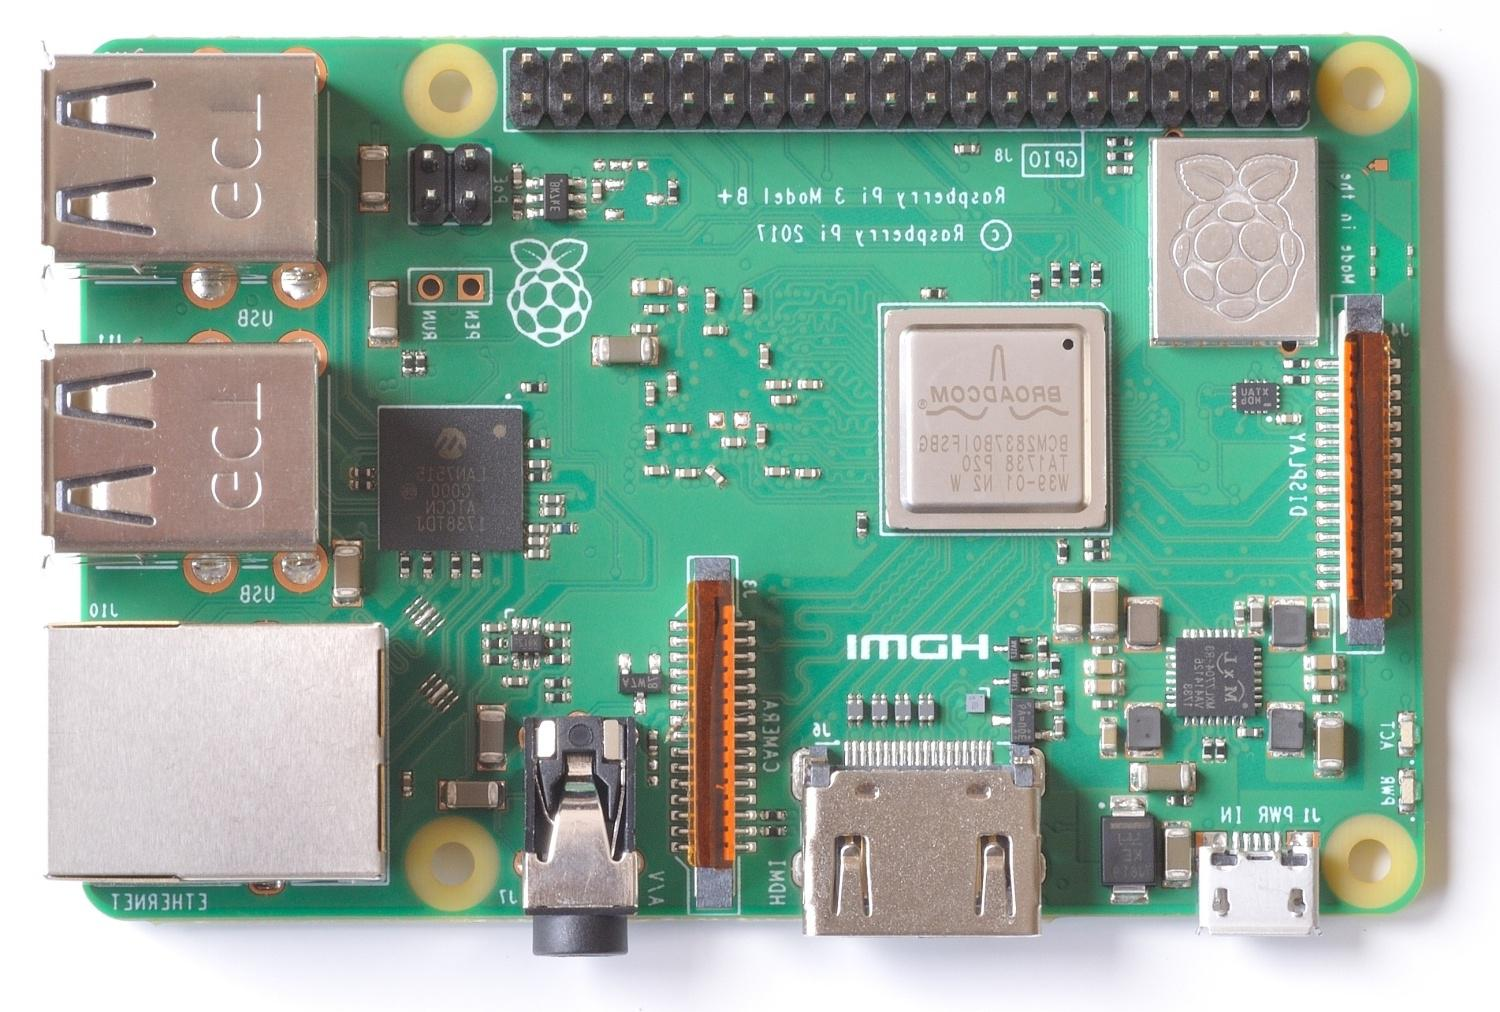audiojack: (518, 710, 640, 968)
bchi: (872, 293, 1119, 542)
ethernet: (46, 623, 391, 888)
gpio: (508, 43, 1317, 122)
usb: (43, 340, 328, 562), (43, 52, 322, 263)
